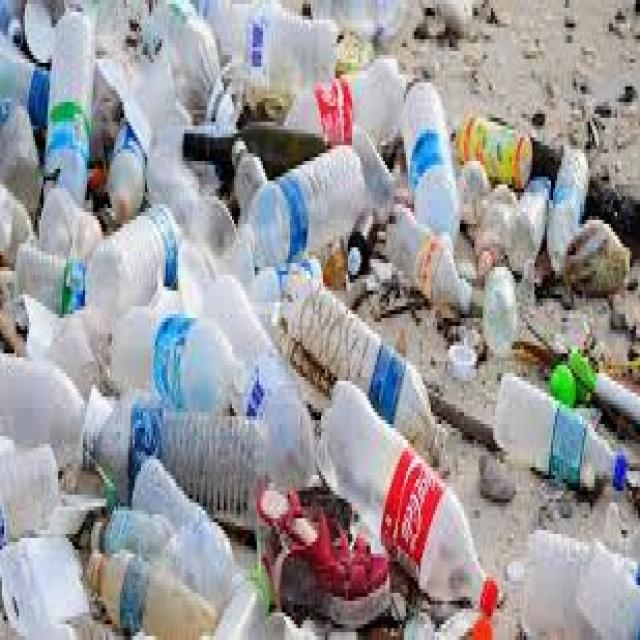plastic_bottle: (308, 368, 511, 622), (14, 9, 126, 252), (485, 352, 634, 511), (243, 141, 371, 272), (390, 76, 467, 283)
